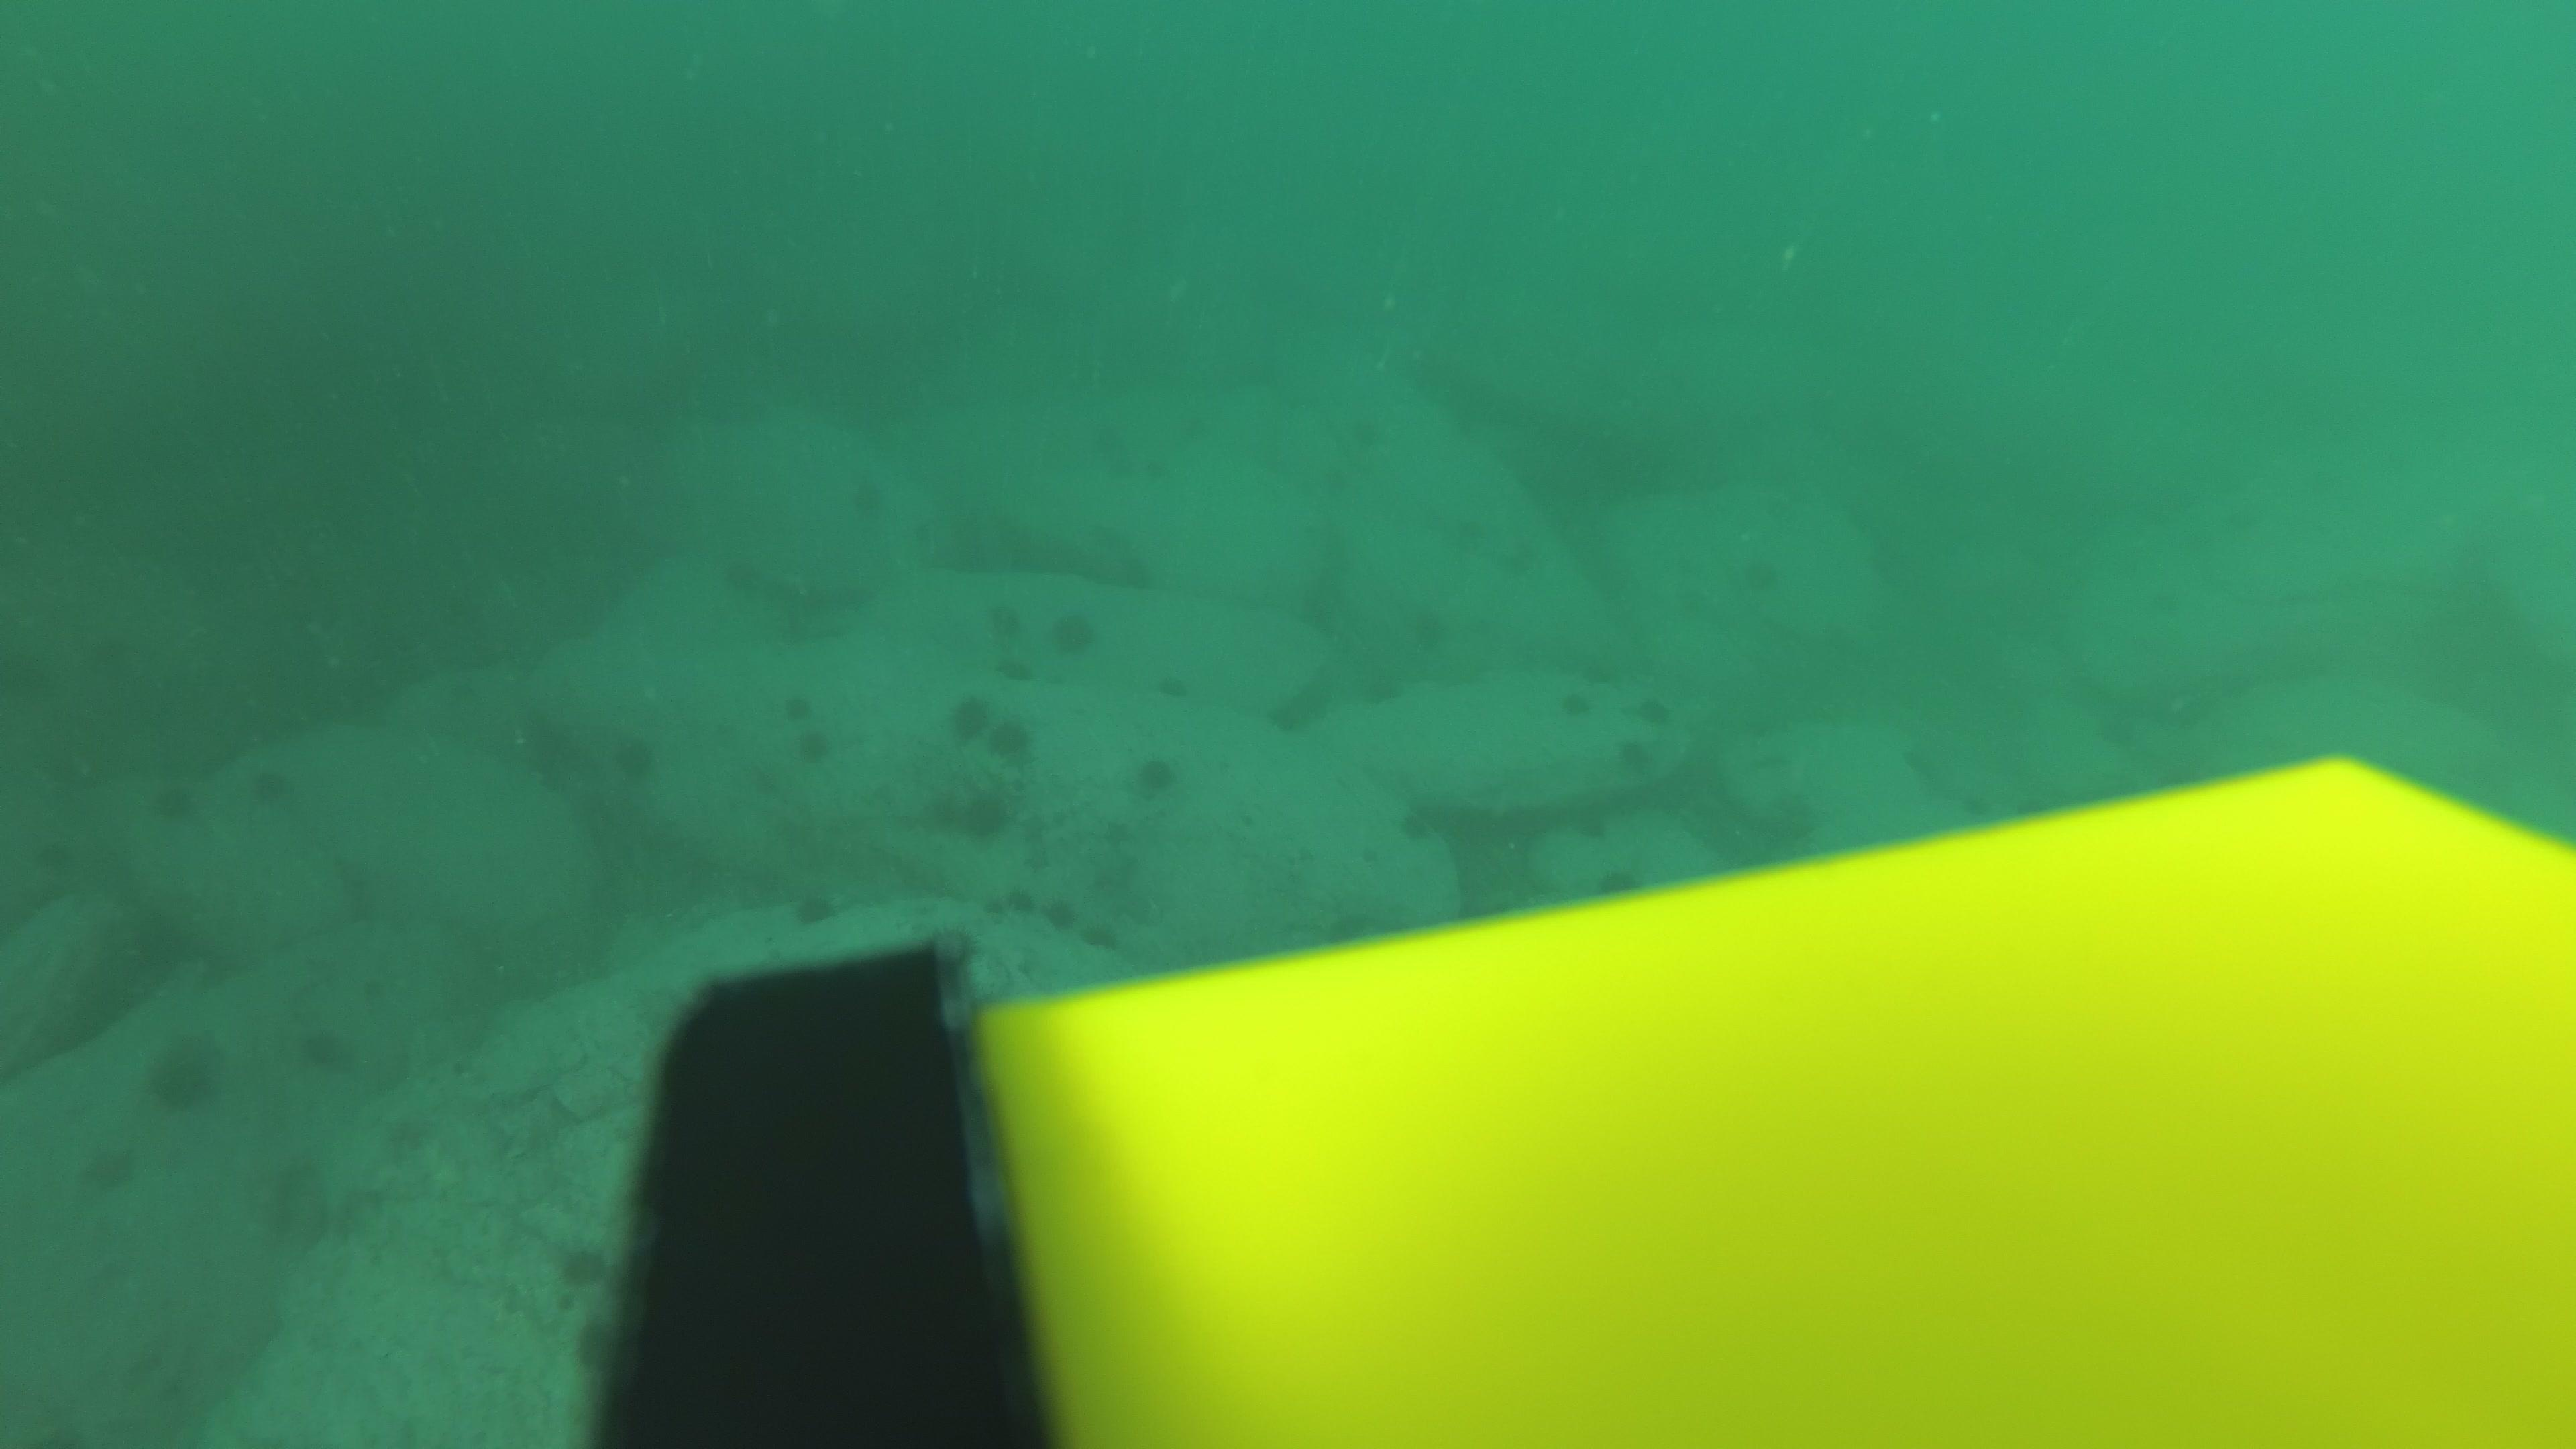echinus: (257, 1154, 331, 1249), (142, 1030, 223, 1113), (515, 708, 584, 789), (124, 902, 196, 977), (1265, 679, 1329, 736), (78, 1139, 138, 1196), (955, 786, 1012, 842), (556, 1238, 610, 1293), (297, 1021, 352, 1074), (149, 777, 203, 828), (610, 729, 660, 786), (244, 761, 297, 812), (948, 692, 994, 748), (984, 713, 1033, 763), (1053, 605, 1099, 658), (1132, 750, 1180, 800), (789, 885, 840, 929), (1571, 807, 1614, 840), (1571, 662, 1614, 695), (985, 605, 1028, 639), (849, 483, 892, 517), (1076, 918, 1116, 952), (1042, 901, 1083, 934), (1001, 883, 1042, 916), (1599, 867, 1640, 901), (1392, 805, 1433, 839), (1608, 741, 1649, 775), (1628, 697, 1668, 731), (1557, 685, 1598, 718), (1366, 676, 1407, 709), (1410, 614, 1451, 648), (1504, 543, 1545, 577), (1456, 513, 1497, 547), (1313, 455, 1353, 488), (1341, 412, 1382, 446), (1134, 451, 1175, 485), (1169, 410, 1210, 444), (1104, 448, 1145, 481), (1088, 421, 1129, 455), (989, 644, 1030, 678), (1741, 561, 1782, 594), (1822, 619, 1863, 653), (1891, 748, 1932, 782), (1951, 787, 1992, 821), (2017, 786, 2058, 819), (1748, 743, 1789, 777), (1120, 561, 1161, 594), (1295, 593, 1336, 626), (1332, 913, 1373, 947), (1145, 667, 1185, 699), (778, 686, 814, 722), (725, 556, 761, 591), (800, 729, 833, 766)
starfish: (494, 1088, 575, 1162), (543, 1060, 616, 1123)
